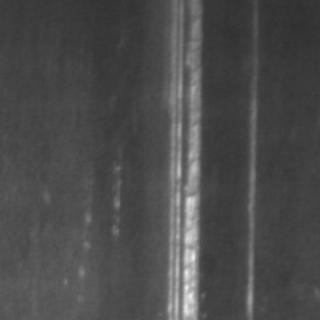scratches: (160, 0, 204, 316), (240, 44, 260, 316)
